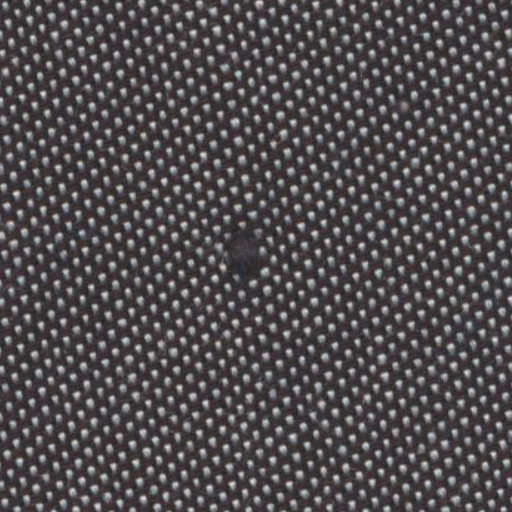MianQiu: (208, 202, 292, 298)
